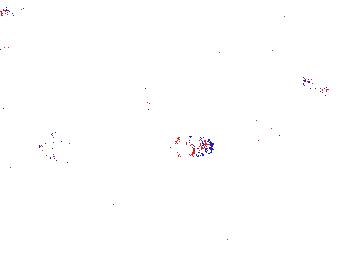X-ray fish: (166, 134, 219, 158), (83, 220, 123, 248), (37, 131, 77, 159)
glassfish: (194, 98, 301, 157), (133, 83, 156, 154)
redtail glassfish: (298, 75, 346, 100)
